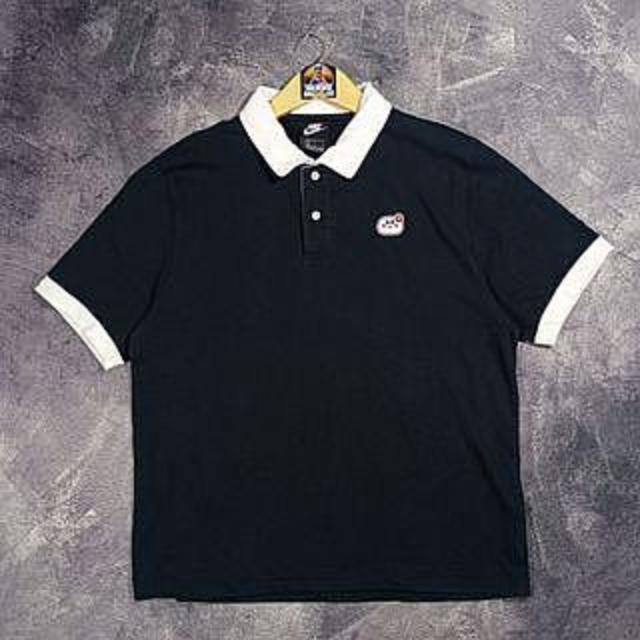T_SHIRT: (30, 82, 629, 617)
